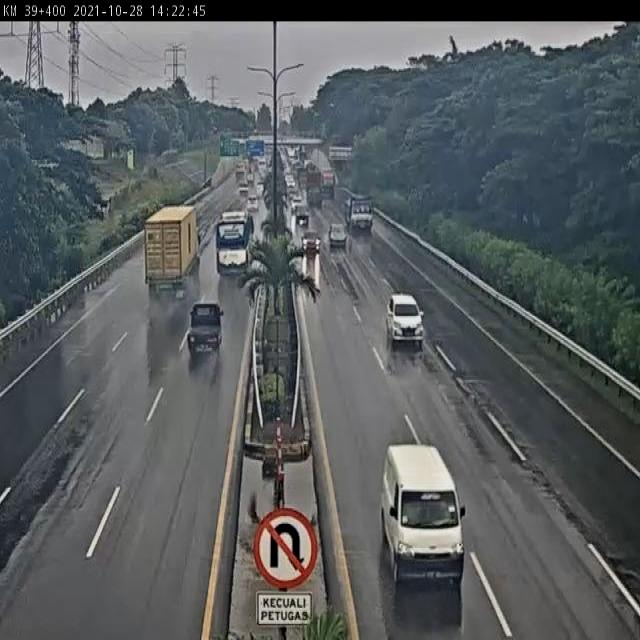Bus: (207, 205, 260, 279)
Car: (386, 282, 429, 352), (187, 302, 225, 357), (328, 224, 348, 248)
Truck: (136, 190, 197, 299), (342, 183, 387, 252)
Van: (380, 442, 464, 586)
